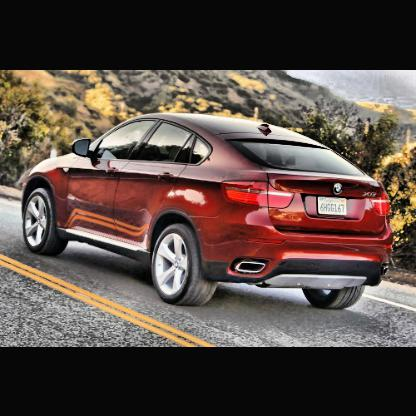BMW X6 SUV 2012: (23, 114, 395, 313)
